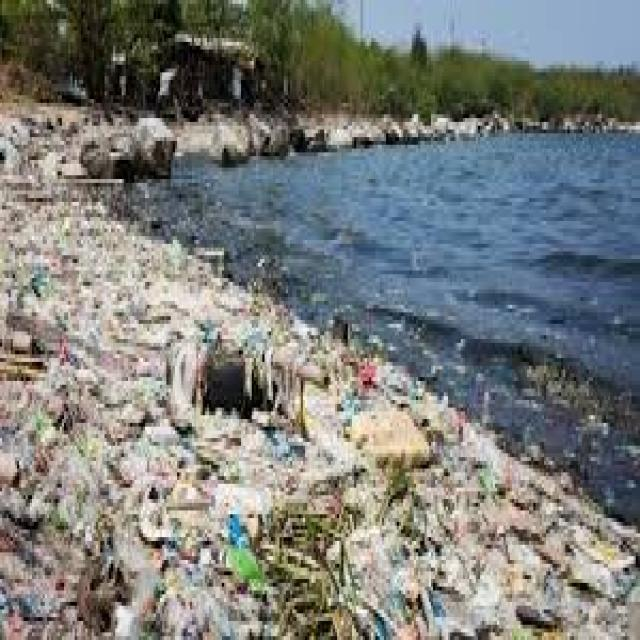cardboard: (8, 260, 213, 640)
